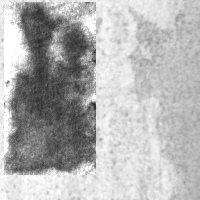patches: (4, 2, 96, 175)
pitted_surface: (1, 1, 127, 200), (128, 1, 200, 200)
